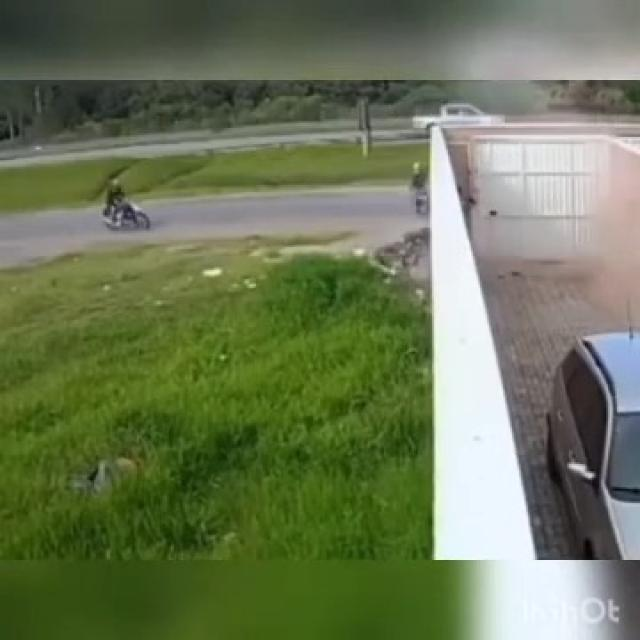accident: (375, 222, 471, 281)
